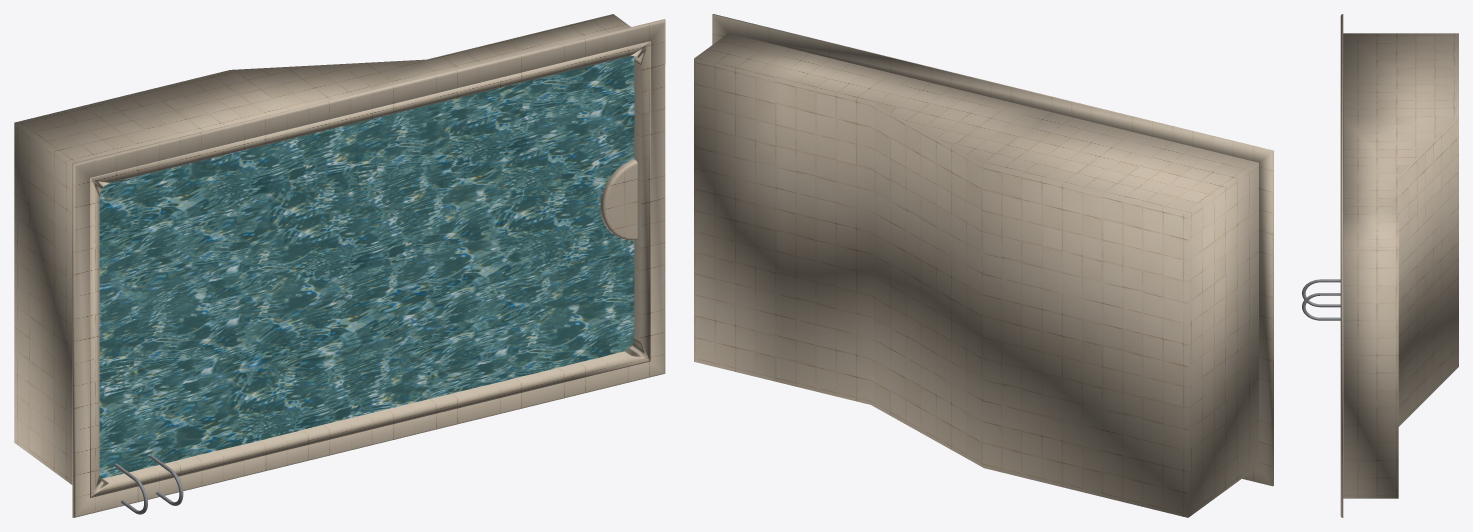
The model's file is Pool.obj.
3 views of the same model, side by side, from view 1: azimuth 30°, elevation 25°; view 2: azimuth 150°, elevation 25°; view 3: azimuth 270°, elevation 25° (orthographic). The views are drawn at different scales.
Visible parts, largest first — view 1: SWIMMING_POOL_WATER, SWIMMING_POOL, SWIMMING_POOL_LADDER; view 2: SWIMMING_POOL; view 3: SWIMMING_POOL, SWIMMING_POOL_LADDER.
Part boxes in pixels (x1,y1,x2,y2): SWIMMING_POOL_WATER: [99, 56, 634, 478]; SWIMMING_POOL: [14, 14, 665, 517]; SWIMMING_POOL_LADDER: [114, 455, 183, 514]; SWIMMING_POOL: [694, 14, 1273, 517]; SWIMMING_POOL: [1340, 14, 1458, 517]; SWIMMING_POOL_LADDER: [1302, 279, 1340, 320].
Bounding box in the file's own units: 92.66 × 52.93 × 27.14.
Materials: 3 (3 with a texture image).
